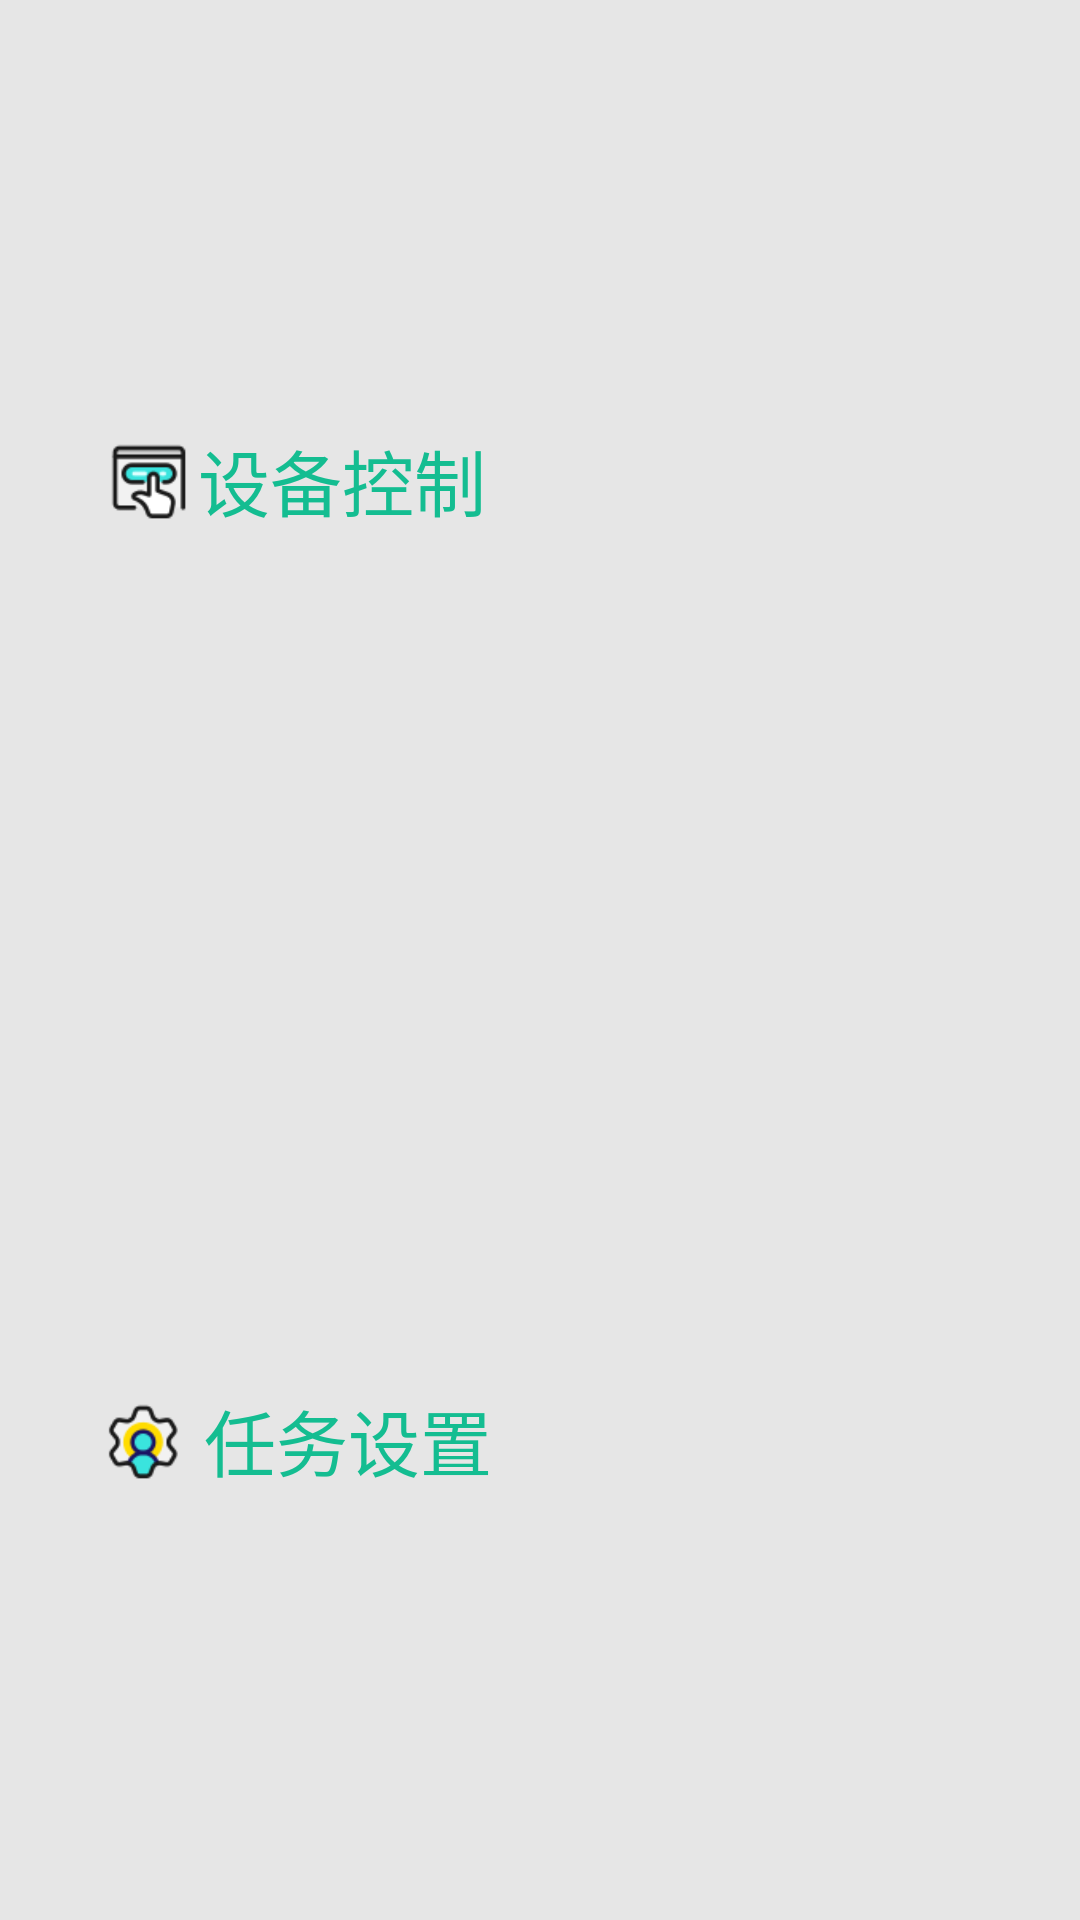

Icons on this 1080×1920 Android screen, each with its box as bbox=(x1, y1, x2, y2):
controller: bbox=(112, 445, 186, 519)
setting: bbox=(109, 1405, 178, 1479)
